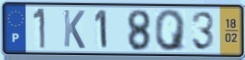1: (93, 9, 109, 51), (32, 7, 47, 51)
3: (190, 11, 216, 51)
8: (125, 8, 153, 52)
K: (62, 8, 86, 50)
Q: (153, 8, 188, 53)
